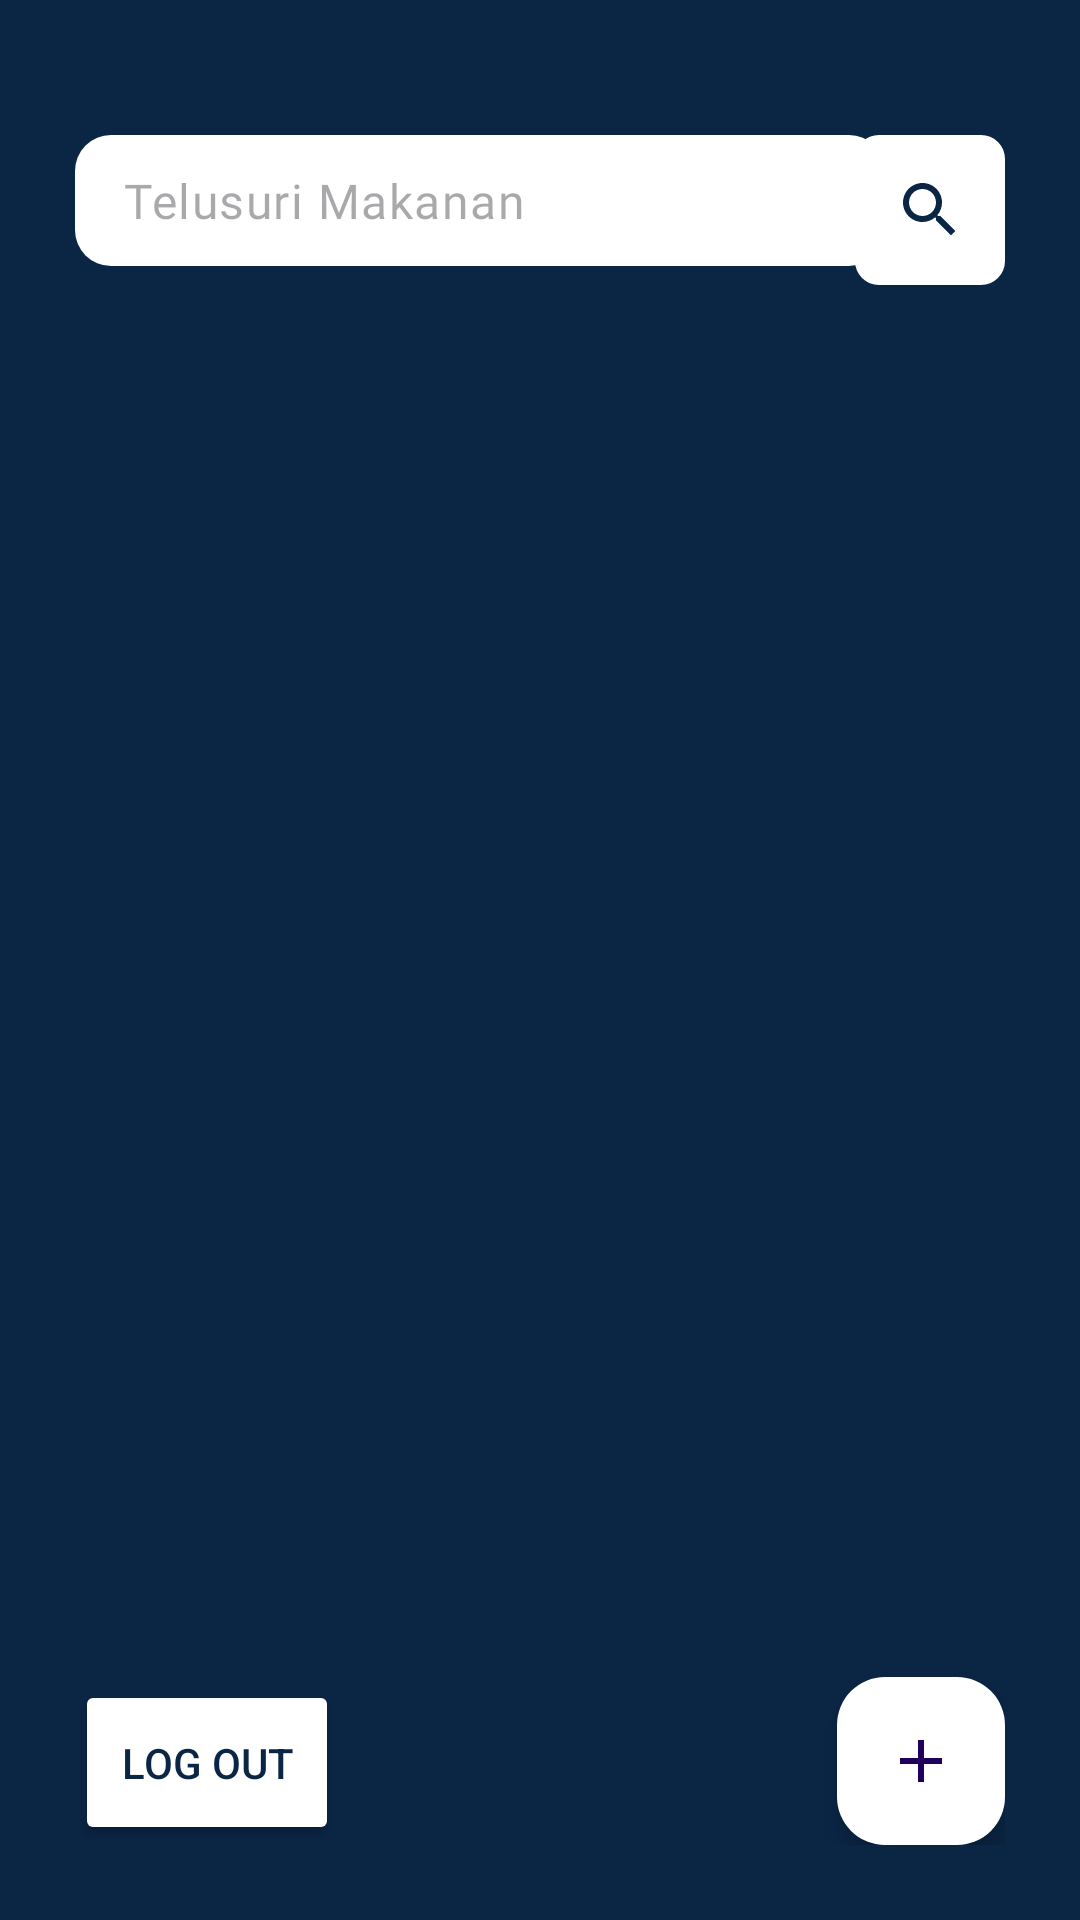

Point at icon controls on the screen. Image size 1080px x 1920px, points as (x,y).
add: (921,1761)
search: (930,210)
